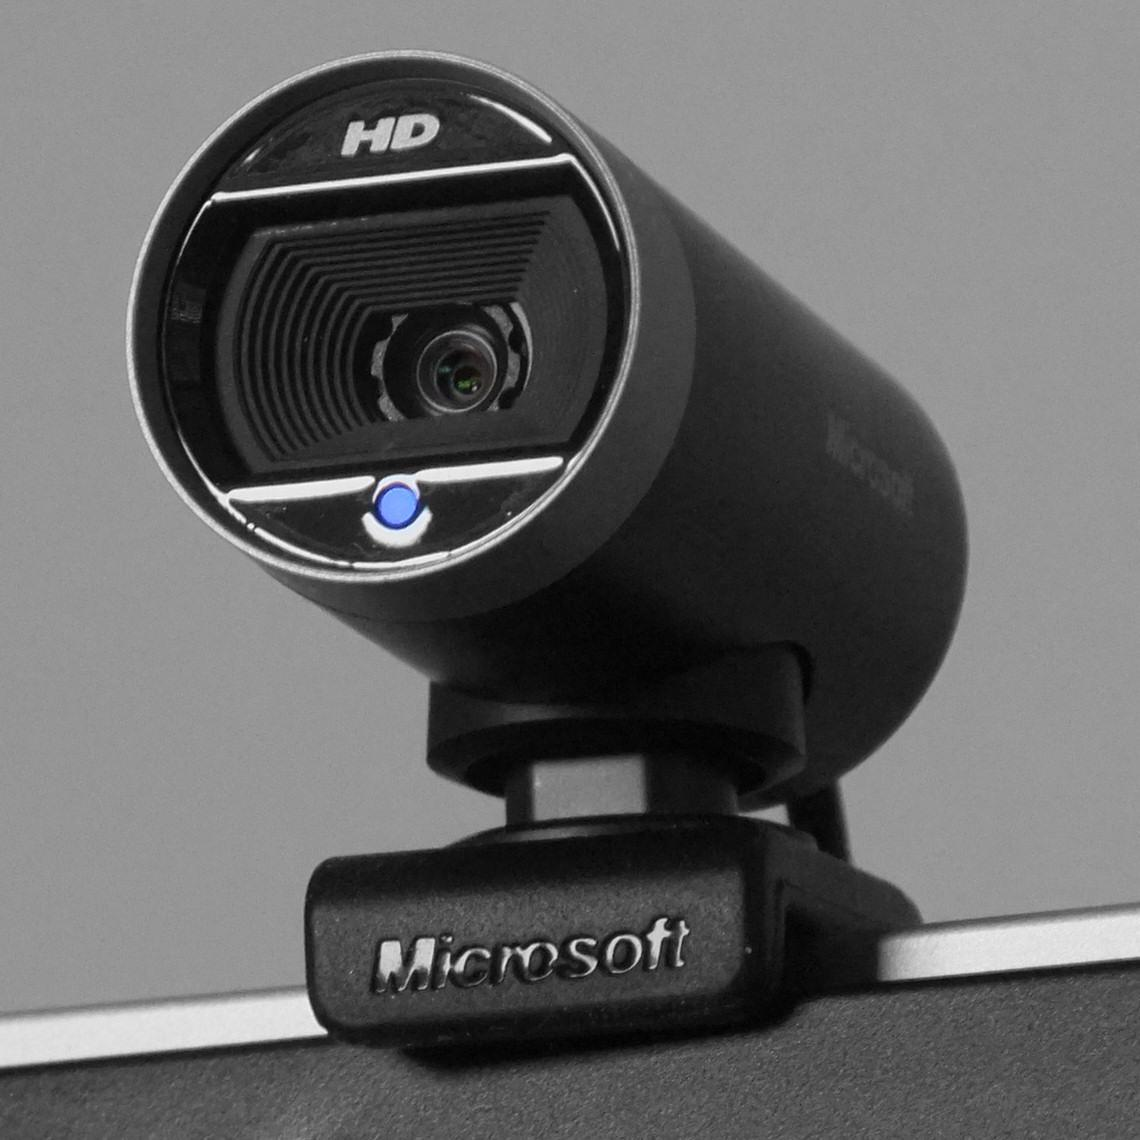webcam: (105, 44, 952, 1024)
